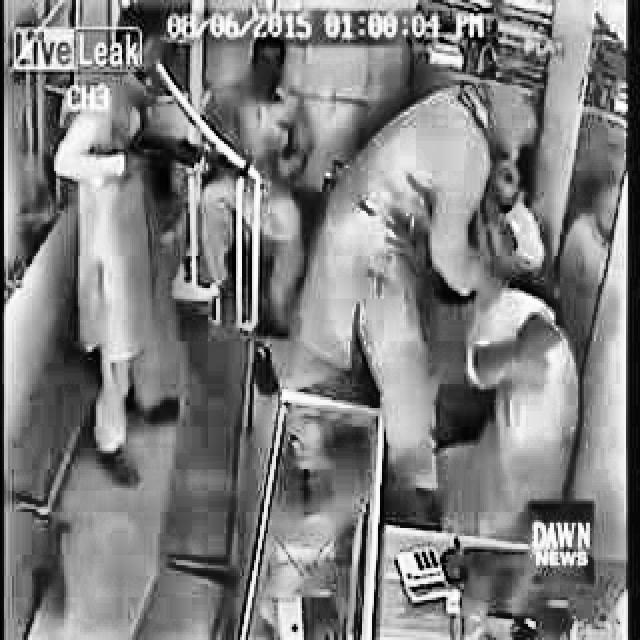robbery: (296, 79, 580, 497), (52, 5, 254, 488)
